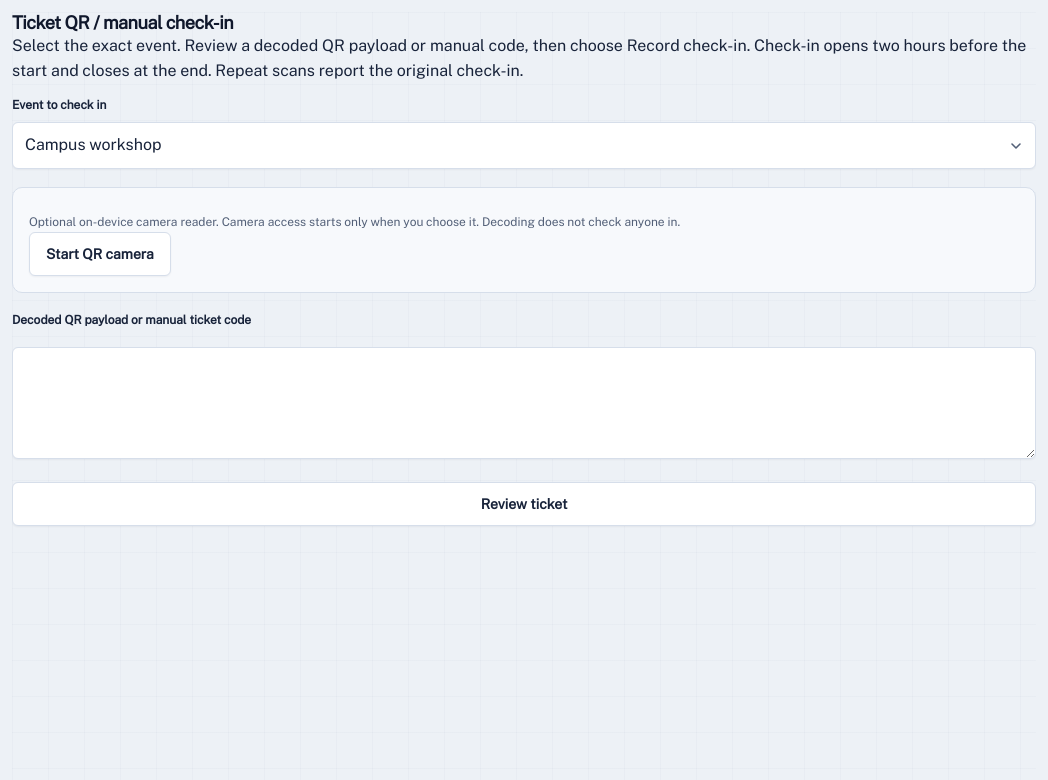
Test: organizer decode-first check-in › preserves exact safe API invalid-ticket feedback for manual entry
Type "8b3b9b8d-d32c-46ec-94c1-70492d7a0ec2" into the text box labelled "Decoded QR payload or manual ticket code" at (524, 403), box [12,347,1036,459]
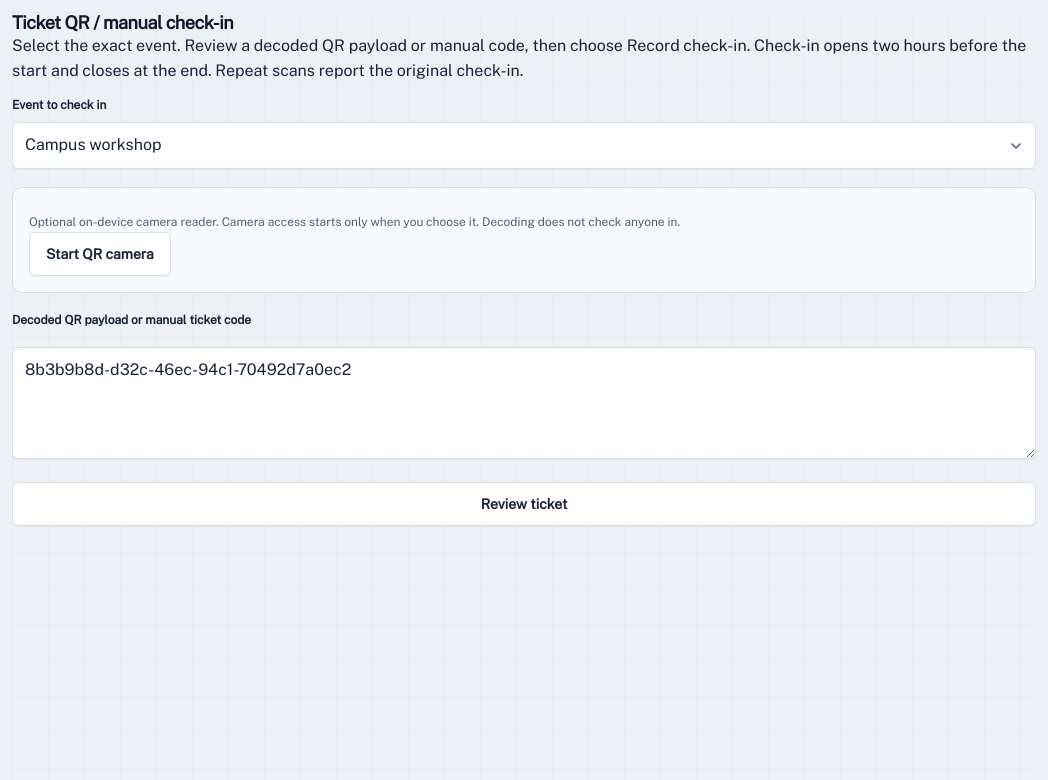
Click the button "Review ticket" at (524, 504), box [12,482,1036,526]
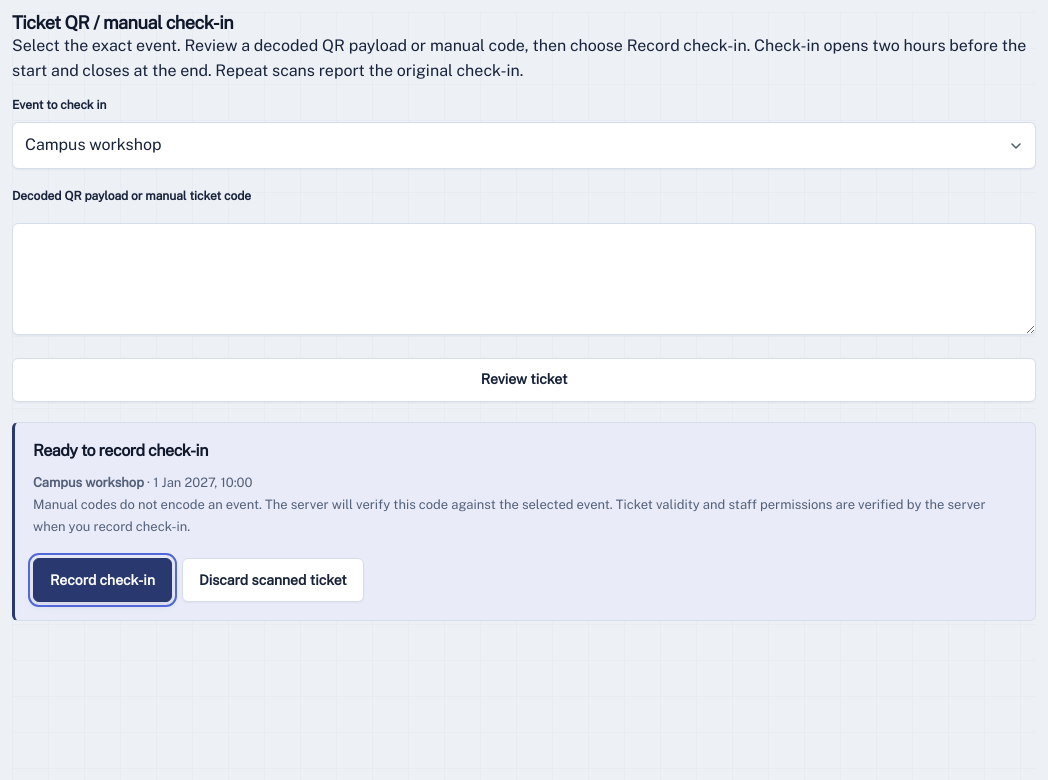
Now the text "Manual codes do not encode an event" is shown, box [33,497,613,512]
Click the button "Record check-in" at (102, 580), box [33,558,172,602]
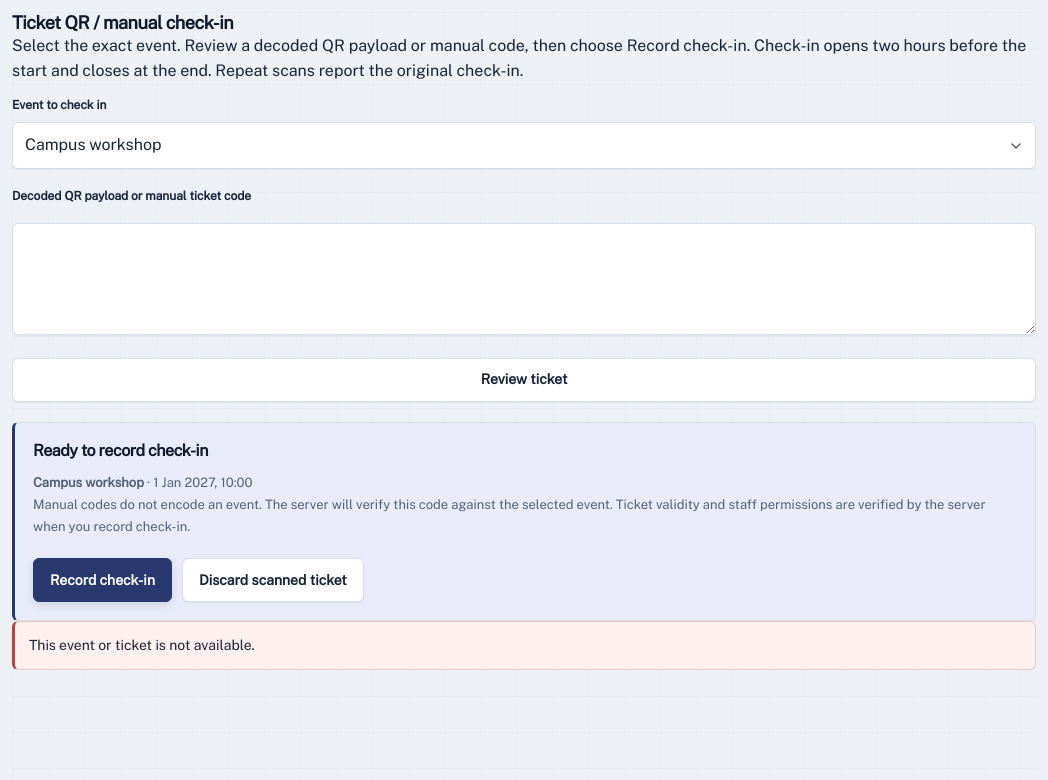
Expected: the message does not show "8b3b9b8d-d32c-46ec-94c1-70492d7a0ec2"
Now the message reads "This event or ticket is not available.", box [29,637,255,653]
